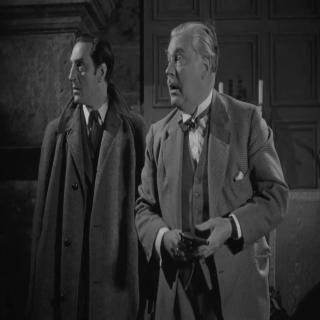gun: (164, 222, 210, 268)
